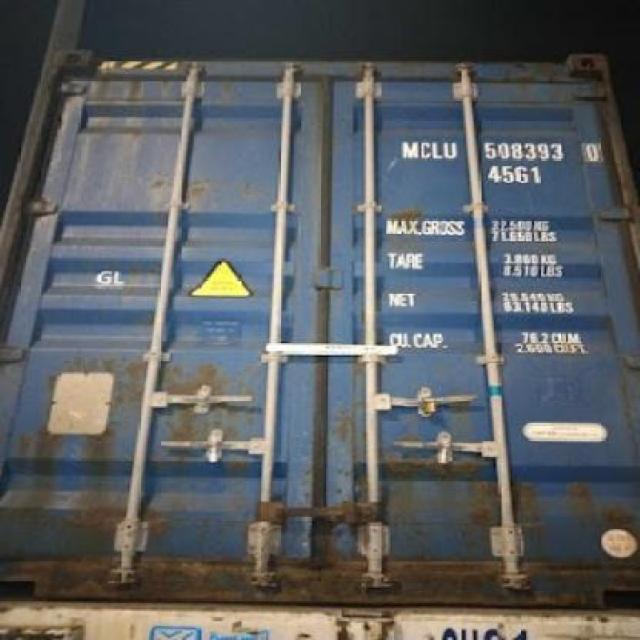ISO: (488, 163, 544, 185)
container_number: (408, 137, 591, 163)
